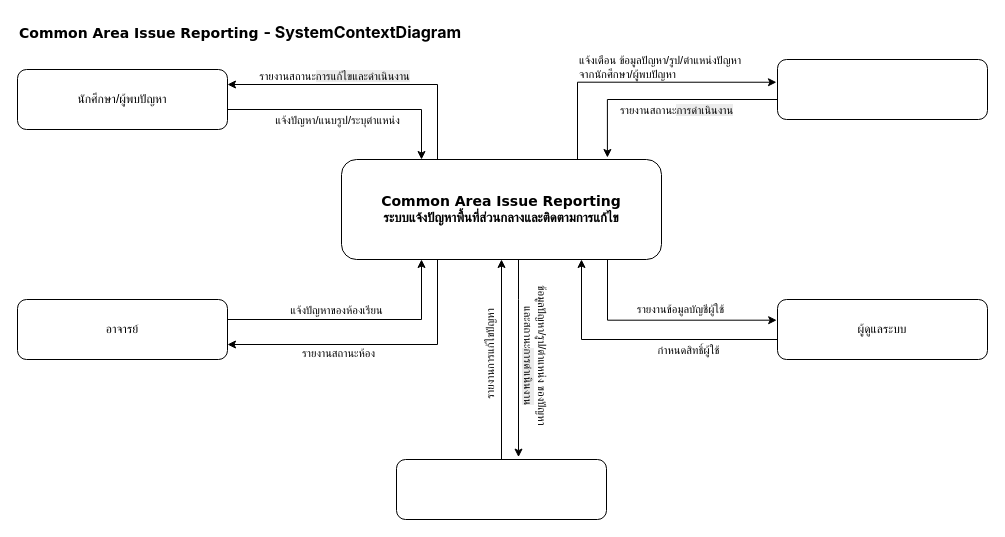
Some shapes in this 1005 by 537 pixel diagram are drawn without their labels. Each missing label, with the box of its shape:
ผู้ดูแลความปลอดภัย: (776, 58, 988, 120)
เจ้าหน้าที่อาคาร/เจ้าหน้าที่เทคนิค/แม่บ้าน: (396, 458, 606, 520)
